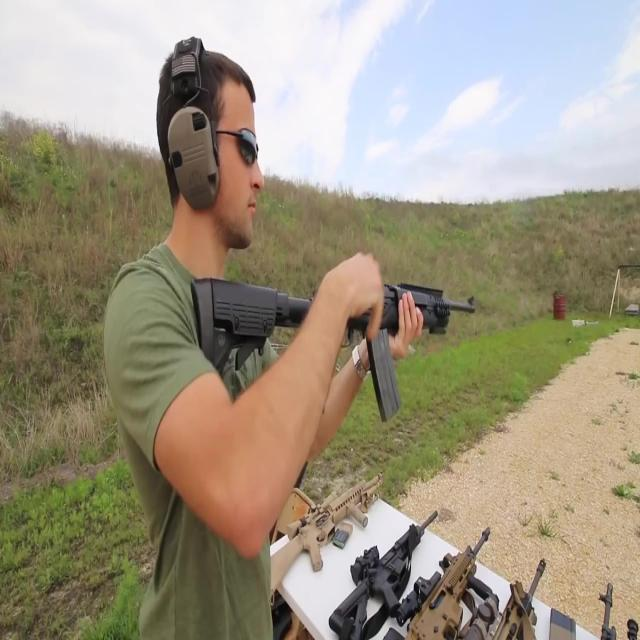Weapon: (159, 212, 543, 481)
